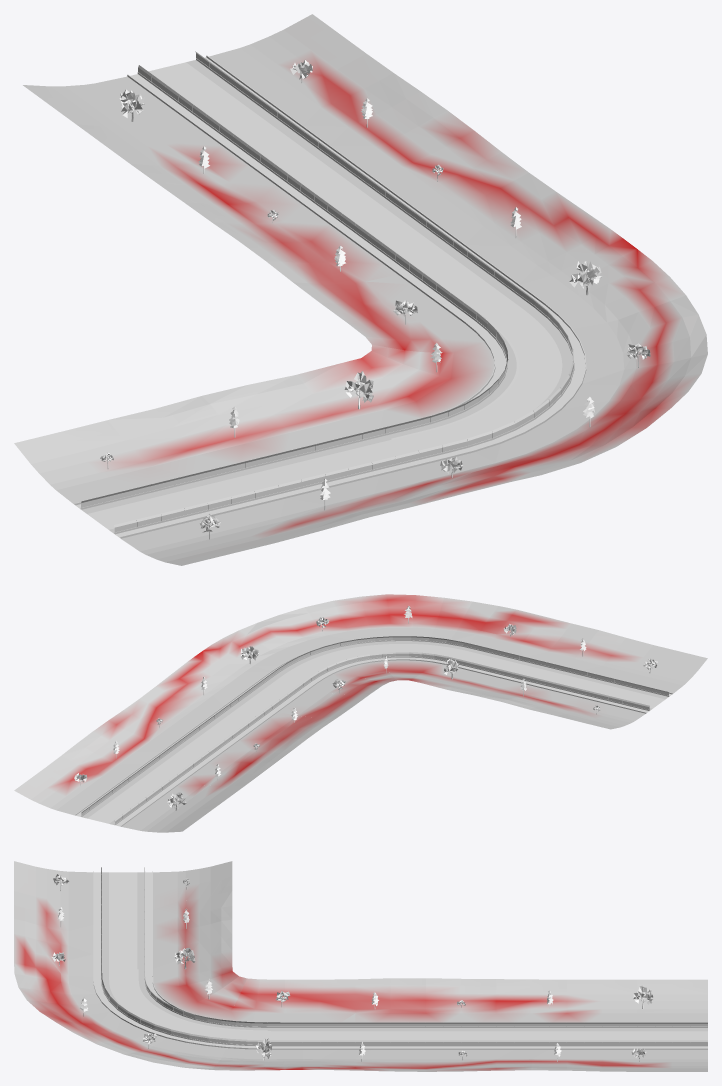
3 views of the same model, one above another, from view 1: azimuth 30°, elevation 25°; view 2: azimuth 150°, elevation 25°; view 3: azimuth 270°, elevation 25° (orthographic). The views are drawn at different scales.
Parts seen in each view (by area): view 1: Grass, Road, Track, Wirefence, Trees; view 2: Grass, Road, Track, Wirefence, Trees; view 3: Grass, Road, Track, Wirefence, Trees.
Boxes of the visible parts, x1=… form: Grass: x1=14, y1=14, x2=707, y2=565; Road: x1=88, y1=62, x2=561, y2=529; Track: x1=74, y1=51, x2=586, y2=538; Wirefence: x1=81, y1=52, x2=573, y2=532; Trees: x1=100, y1=60, x2=650, y2=539; Grass: x1=14, y1=594, x2=707, y2=832; Road: x1=88, y1=644, x2=664, y2=823; Track: x1=75, y1=636, x2=672, y2=826; Wirefence: x1=81, y1=636, x2=668, y2=823; Trees: x1=74, y1=606, x2=657, y2=810; Grass: x1=14, y1=861, x2=707, y2=1071; Road: x1=109, y1=872, x2=707, y2=1040; Track: x1=93, y1=871, x2=707, y2=1049; Wirefence: x1=101, y1=867, x2=707, y2=1045; Trees: x1=52, y1=874, x2=653, y2=1061.
Size of what is drawn, in the model's own units: 32000 by 1771 by 44500.
